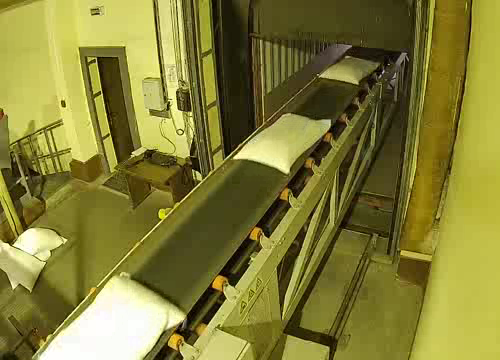bag: (34, 270, 191, 360), (228, 107, 337, 177), (316, 53, 381, 87)
